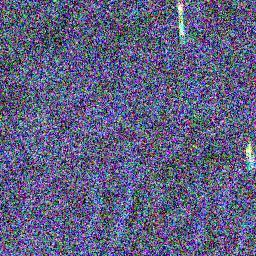Ship: (173, 2, 191, 37), (239, 136, 255, 164)
